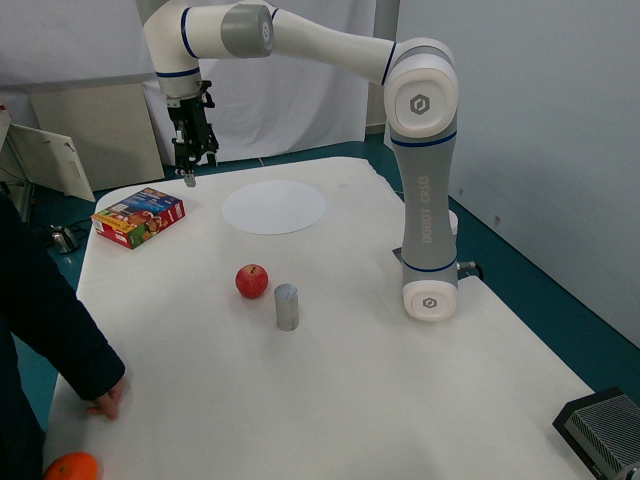apple: (232, 253, 272, 305)
metalROD: (268, 277, 304, 335)
